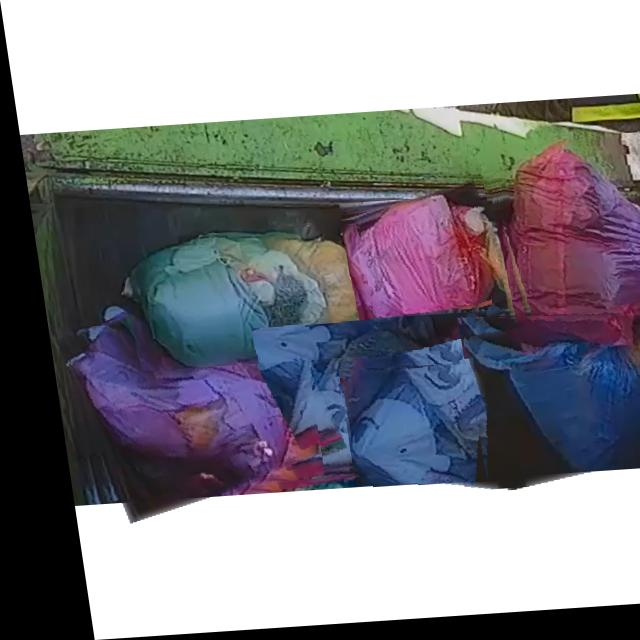general_trashbag: (118, 236, 361, 369)
other_trashbag: (58, 326, 300, 493), (270, 322, 487, 478), (501, 151, 640, 358), (451, 329, 640, 479), (334, 201, 485, 348), (336, 372, 505, 495)
